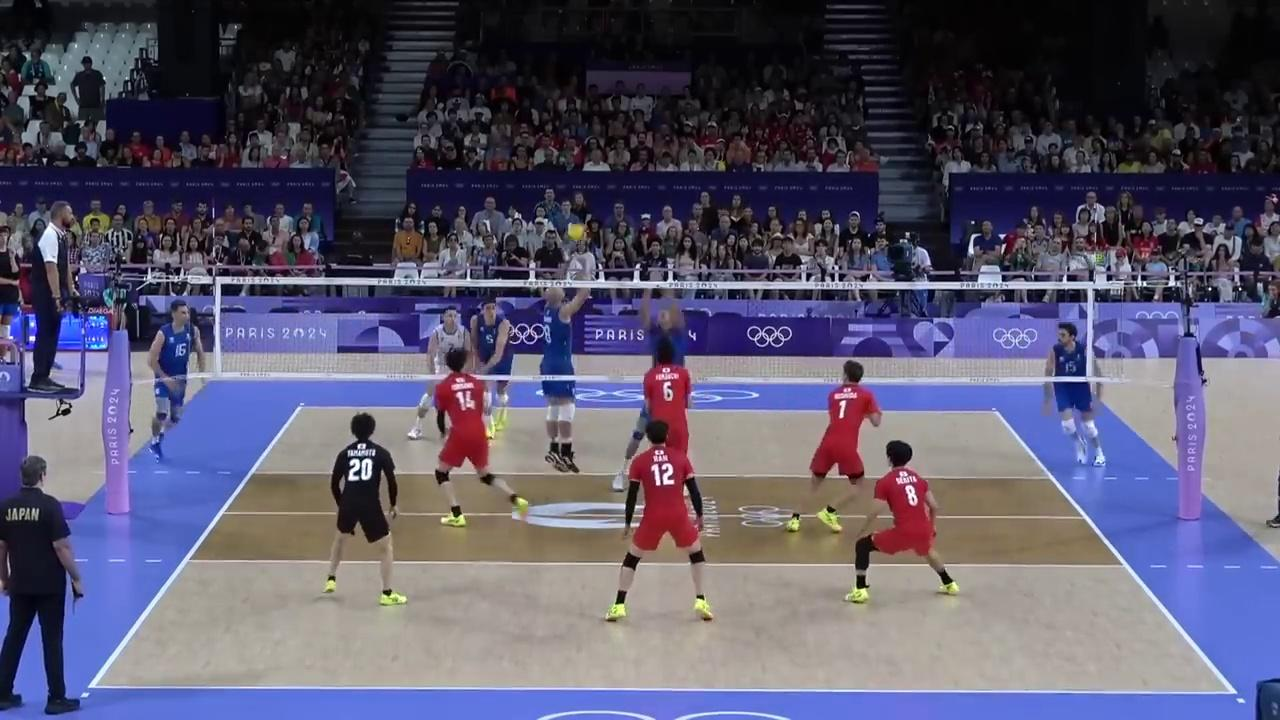ball: (565, 223, 586, 244)
